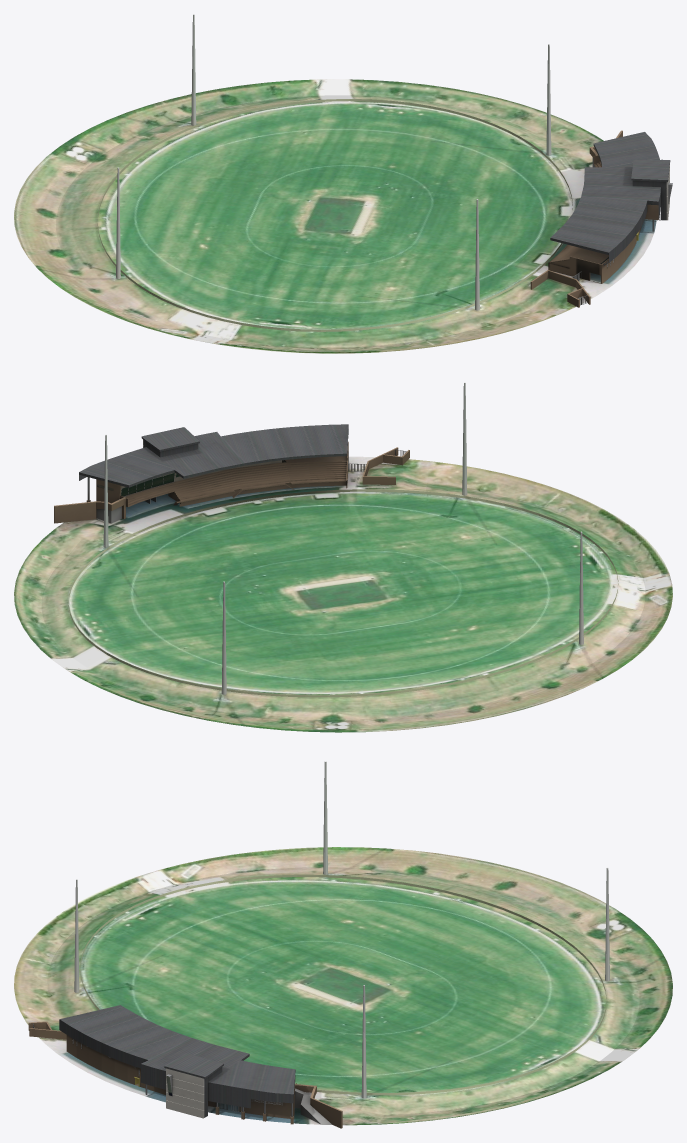
Rendered from Tony Ireland Stadium.fbx.
3 renders of one model, top to bottom at view 1: azimuth 30°, elevation 25°; view 2: azimuth 150°, elevation 25°; view 3: azimuth 270°, elevation 25°, orthographic.
Parts seen in each view (by area): view 1: Object012; view 2: Object012; view 3: Object012.
Boxes of the visible parts, <box> form: Object012: <box>14,14,672,353</box>; Object012: <box>14,382,672,732</box>; Object012: <box>14,761,672,1128</box>.
Bounding box in the file's own units: 21868 × 4250 × 21626.
